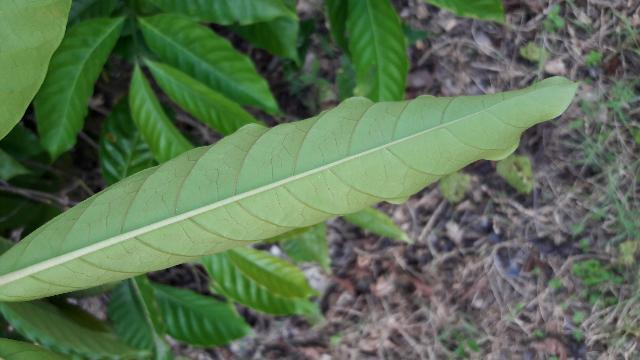healthy: (0, 71, 574, 302)
